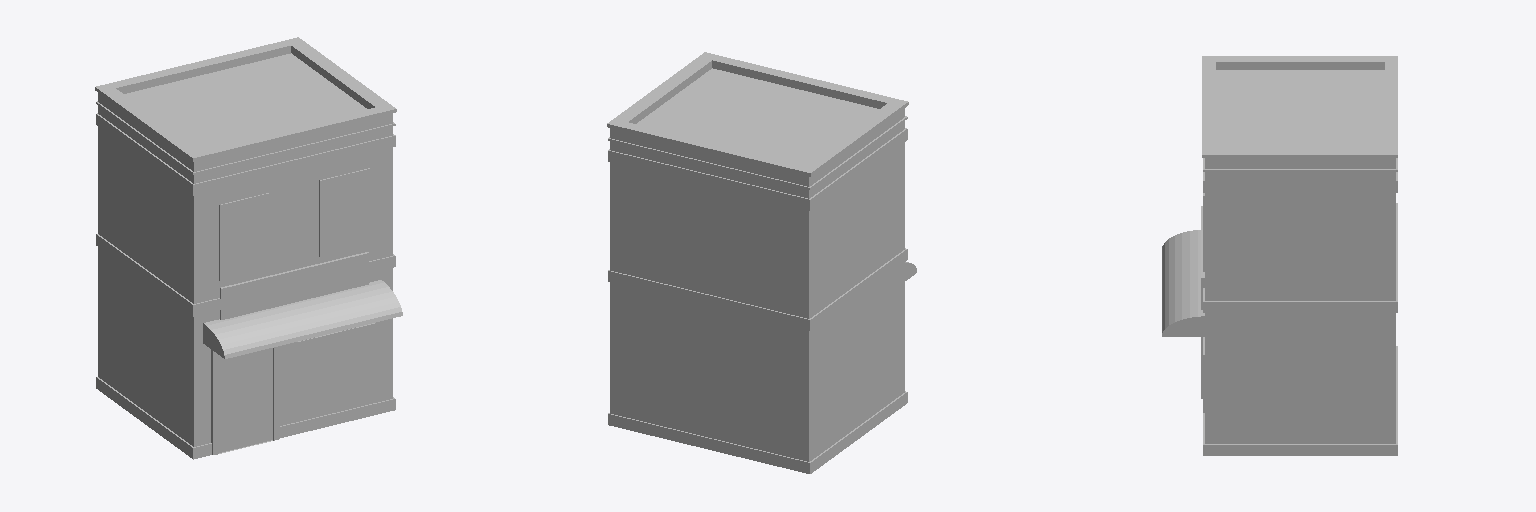
File: Building_Restaurant.obj
The picture shows the model from 3 angles: view 1: azimuth 30°, elevation 25°; view 2: azimuth 150°, elevation 25°; view 3: azimuth 270°, elevation 25°; orthographic projection.
Visible parts, largest first — view 1: Building_Restaurant; view 2: Building_Restaurant; view 3: Building_Restaurant.
Part boxes in pixels (left/top/right/bottom): Building_Restaurant: left=95, top=37, right=402, bottom=459; Building_Restaurant: left=607, top=52, right=916, bottom=473; Building_Restaurant: left=1162, top=56, right=1397, bottom=455.
Bounding box in the file's own units: 290 × 410 × 292.